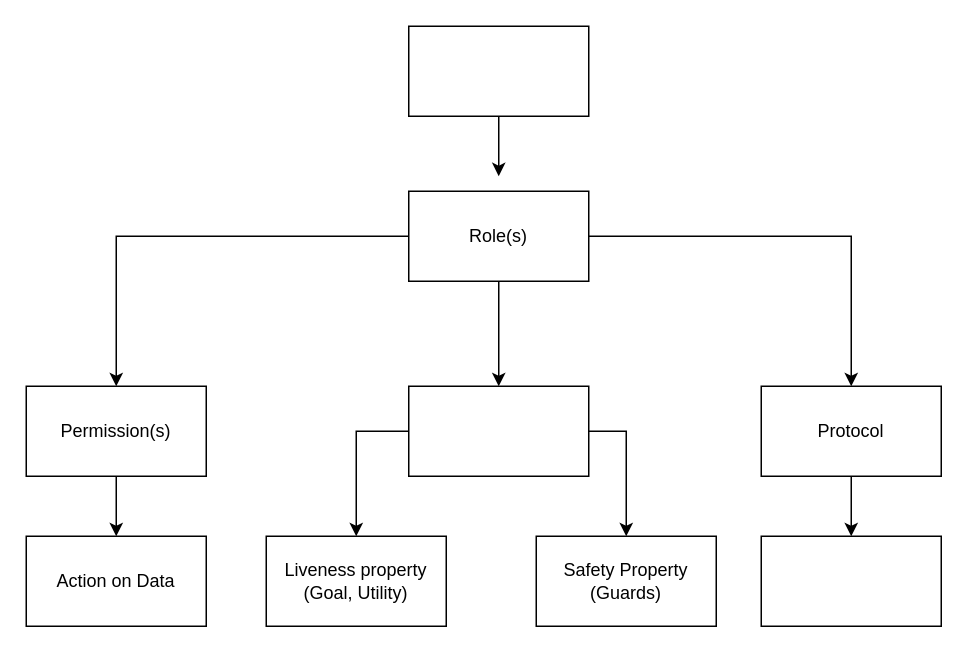
The diagram is 968 pixels wide and 653 high, and some of its shapes have lost their labels. Here are the shapes that lost their labels. From the top down, the box of each, then its label:
(407, 25, 589, 116): System
(407, 385, 589, 476): Responsibility(s)
(760, 535, 941, 626): Class, GUI
